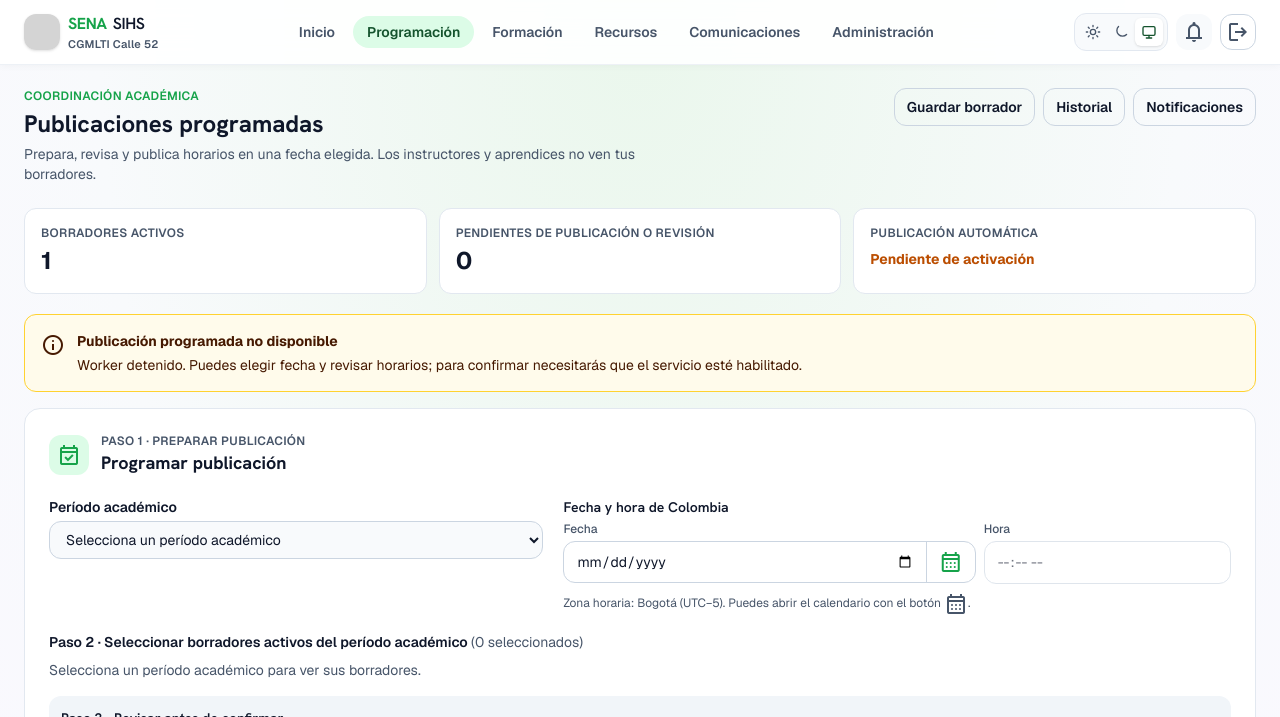
Test: PublicacionesProgramadas › el calendario propio permite navegar y escoger un día sin depender del selector nativo
The width and height of the screenshot is (1280, 717).
Check: the text "Publicación programada no disponible" is shown, box [77,332,338,350]
Click the button named "Abrir calendario".
click(950, 562)  # box [926,542,975,582]
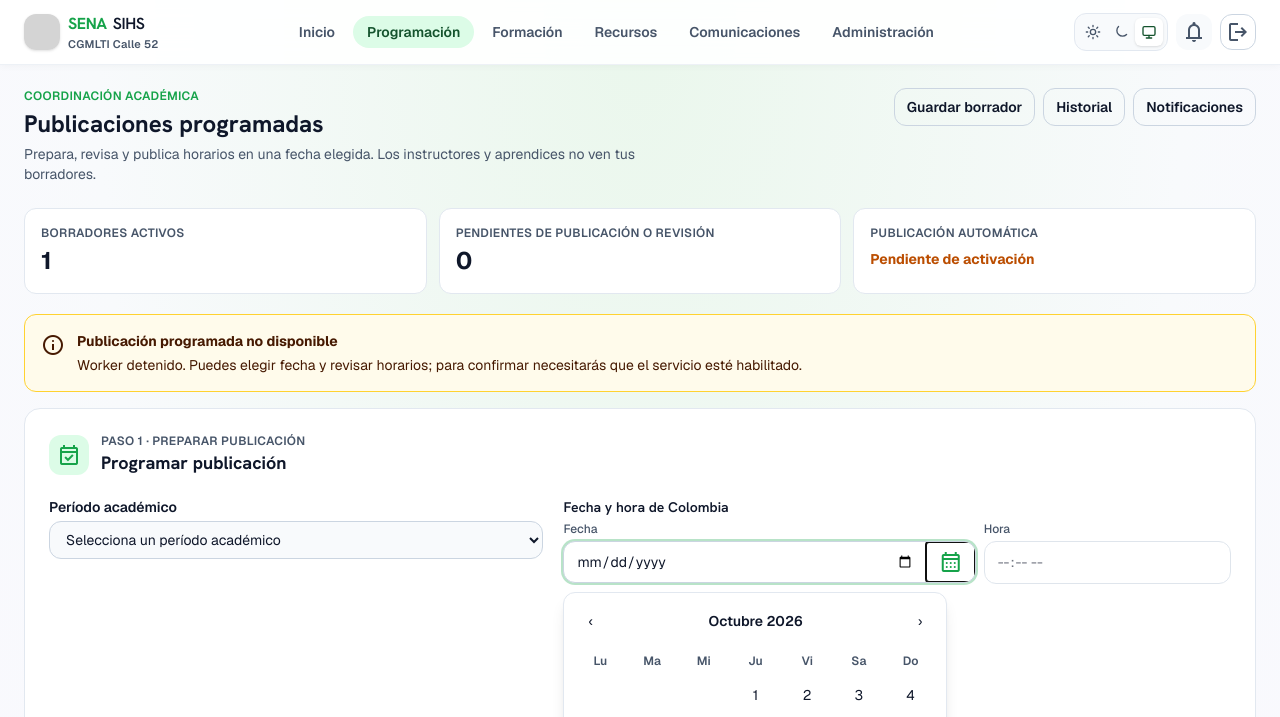
Check: the button named "Mes siguiente" is enabled, box [906,605,934,637]
Click the button named "Elegir 1 de ".
click(755, 695)  # box [732,677,779,713]
(page scrolled)
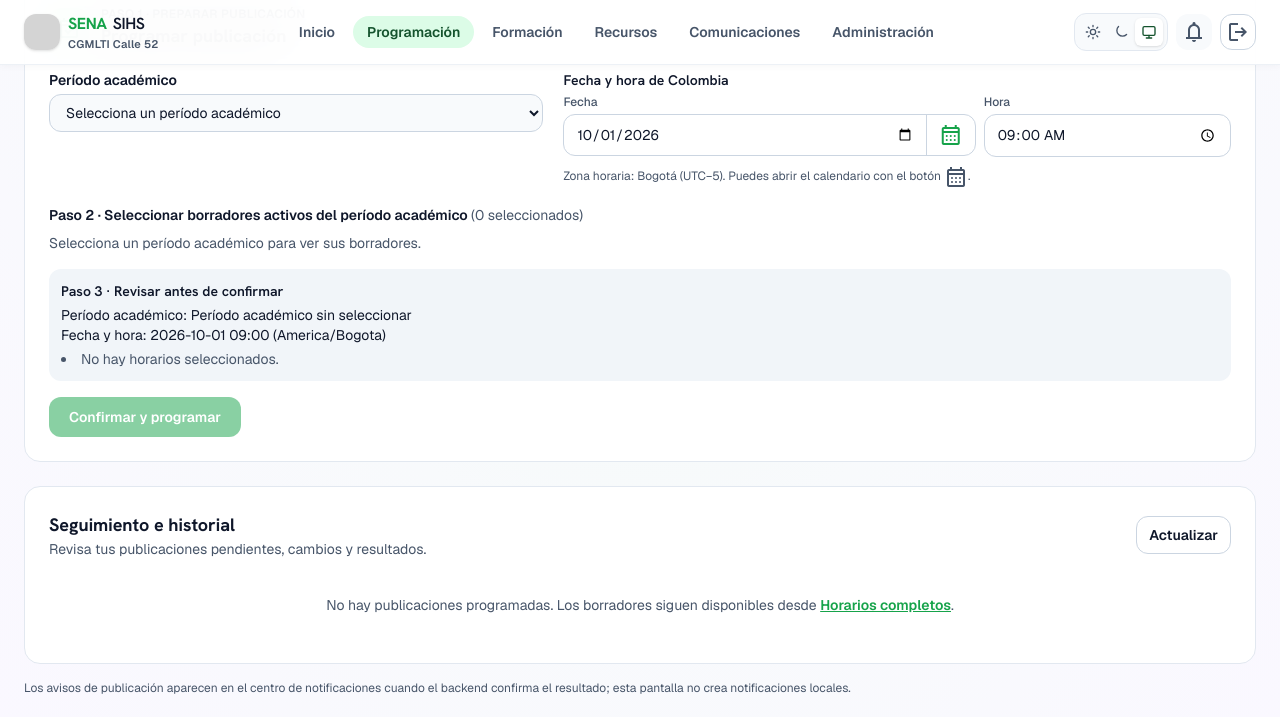
Check: the button "Confirmar y programar" is disabled, box [49,397,241,437]
Check: the time field labelled "Hora" holds "09:00", box [984,114,1231,157]
